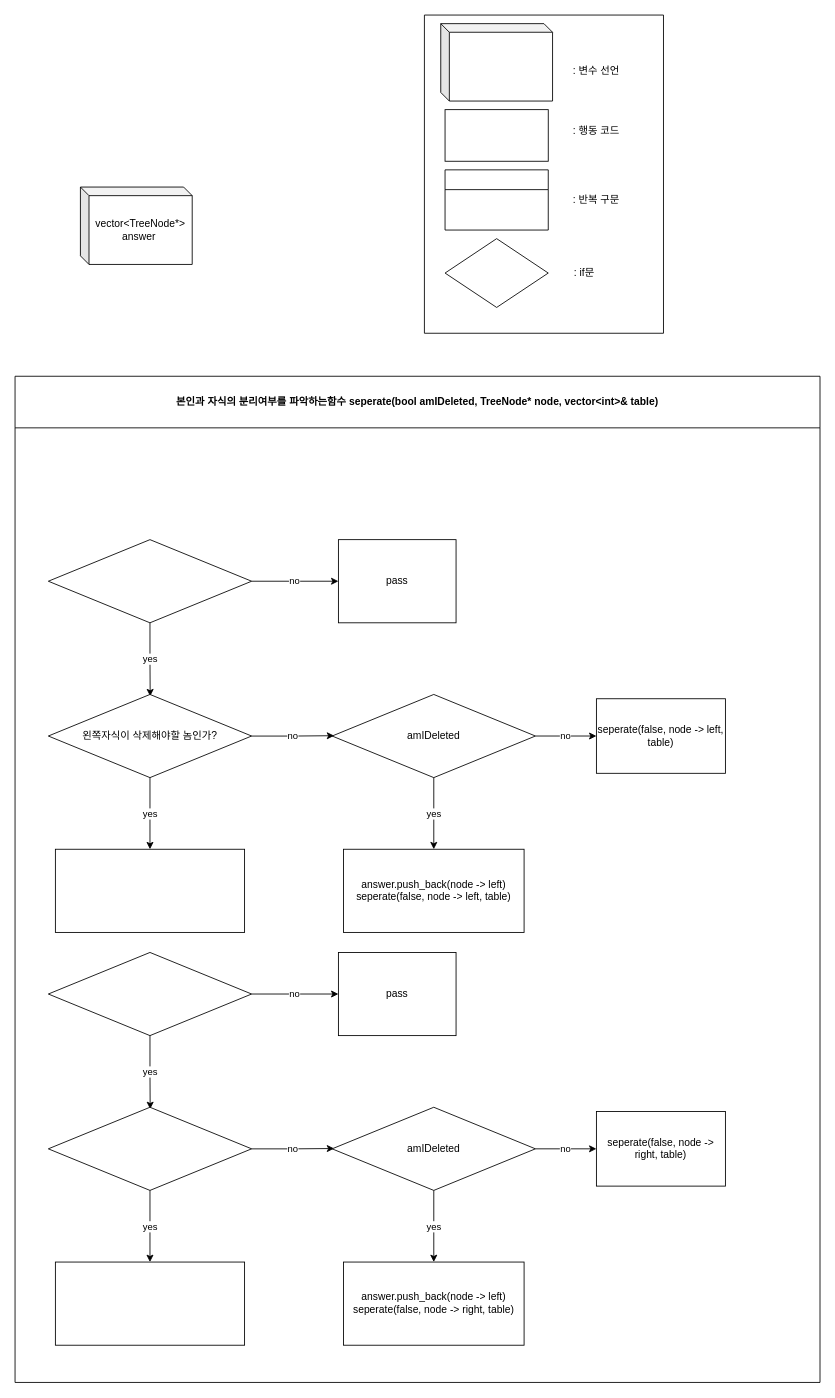
This 835x1398 diagram has some shape labels left out. The shapes that lost their labels are listed below. From the top down, each one's centre as x and y in pixels, then its label:
At [496,199]: "~ 동안".
At [149,581]: "본인의 왼쪽 자식이 있나?".
At [150,890]: "seperate(true, node -> left, table)".
At [149,994]: "본인의 오른쪽 자식이 있나?".
At [149,1148]: "오른쪽자식이 삭제해야할 놈인가?".
At [150,1303]: "seperate(true, node -> right, table)".
